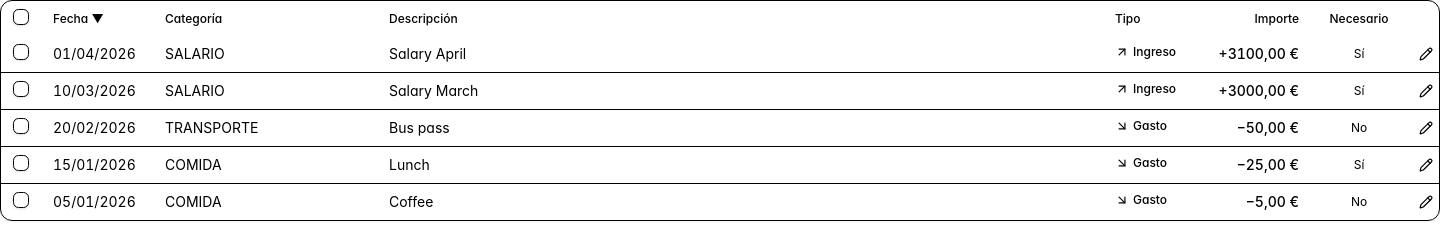
it: MovementsTable › sorting › toggles direction when clicking the same column twice
Click amount → desc (first click on new column)
Click the button "Importe": {"x": 1277, "y": 18} [1254,10,1299,26]
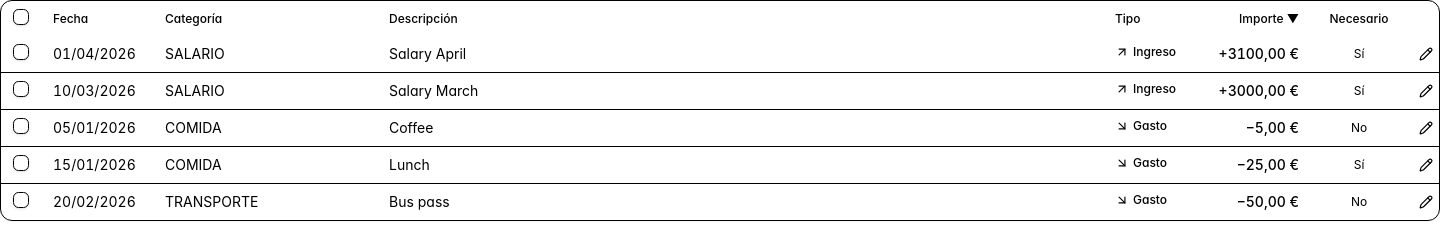
Expected: the button "Importe ▼" is shown
Click again → asc
Click the button "Importe ▼": {"x": 1269, "y": 18} [1239,10,1299,26]
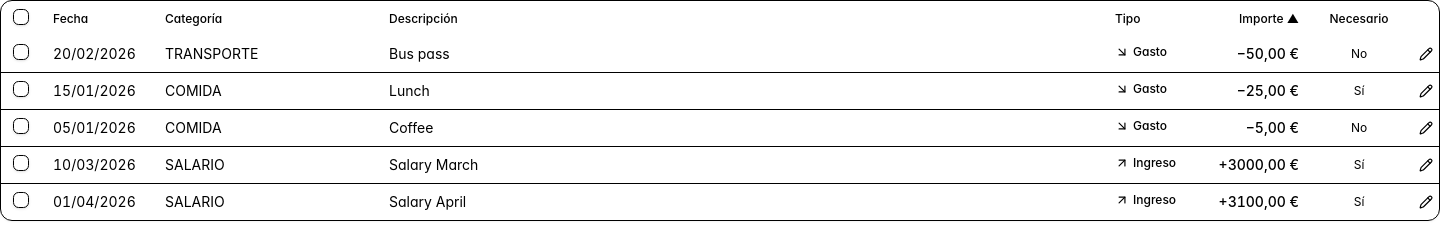
Expected: the row "20/02/2026 TRANSPORTE Bus pass Gasto −50,00 € No" is shown, [1,36,1439,72]
Expected: the button "Importe ▲" is shown, [1239,10,1299,26]
